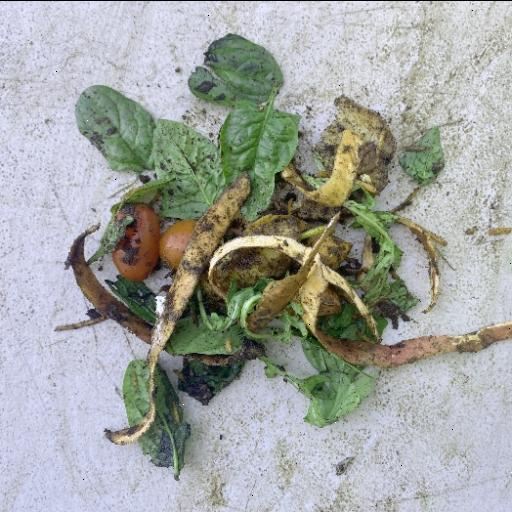Waste: (56, 32, 510, 480)
